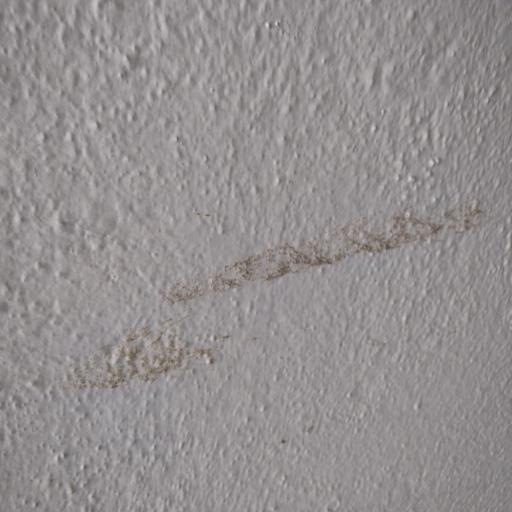stain: (93, 179, 511, 433)
